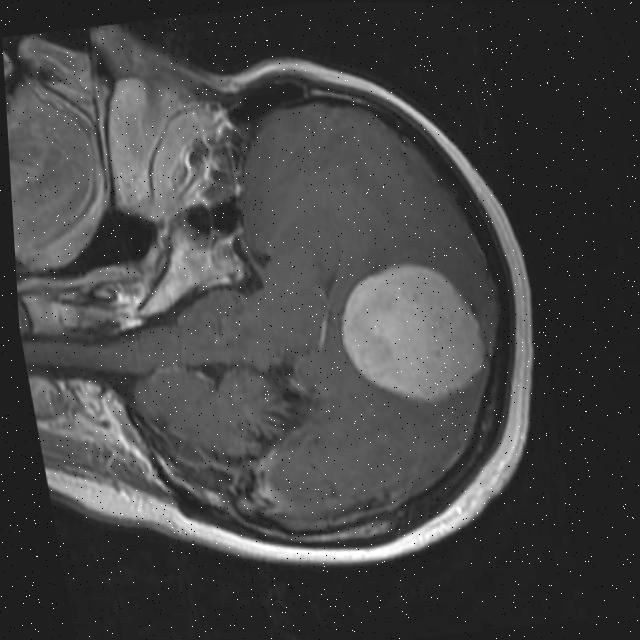Meningioma: (326, 253, 497, 416)
